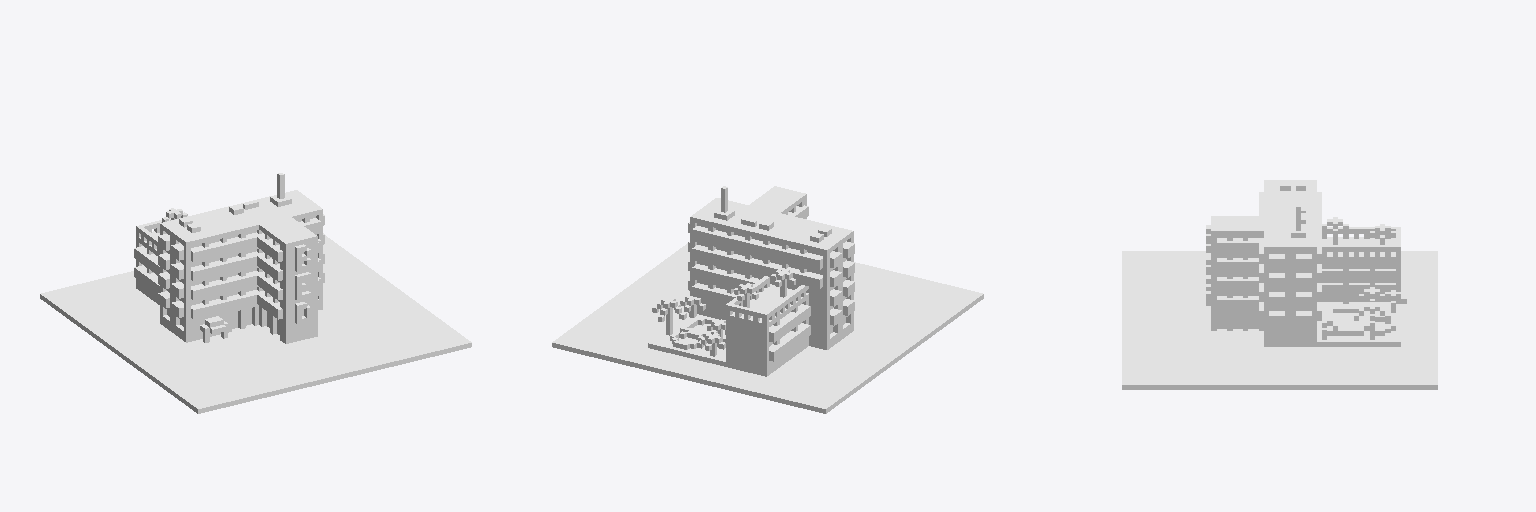
The model's file is hotel.obj.
3 renders of one model, left to right at view 1: azimuth 30°, elevation 25°; view 2: azimuth 150°, elevation 25°; view 3: azimuth 270°, elevation 25°, orthographic.
Visible parts, largest first — view 1: hotel; view 2: hotel; view 3: hotel.
Part boxes in pixels (left/top/right/bottom): hotel: left=40, top=173, right=471, bottom=413; hotel: left=552, top=186, right=983, bottom=413; hotel: left=1122, top=180, right=1437, bottom=389.
Bounding box in the file's own units: 60 × 28 × 60.